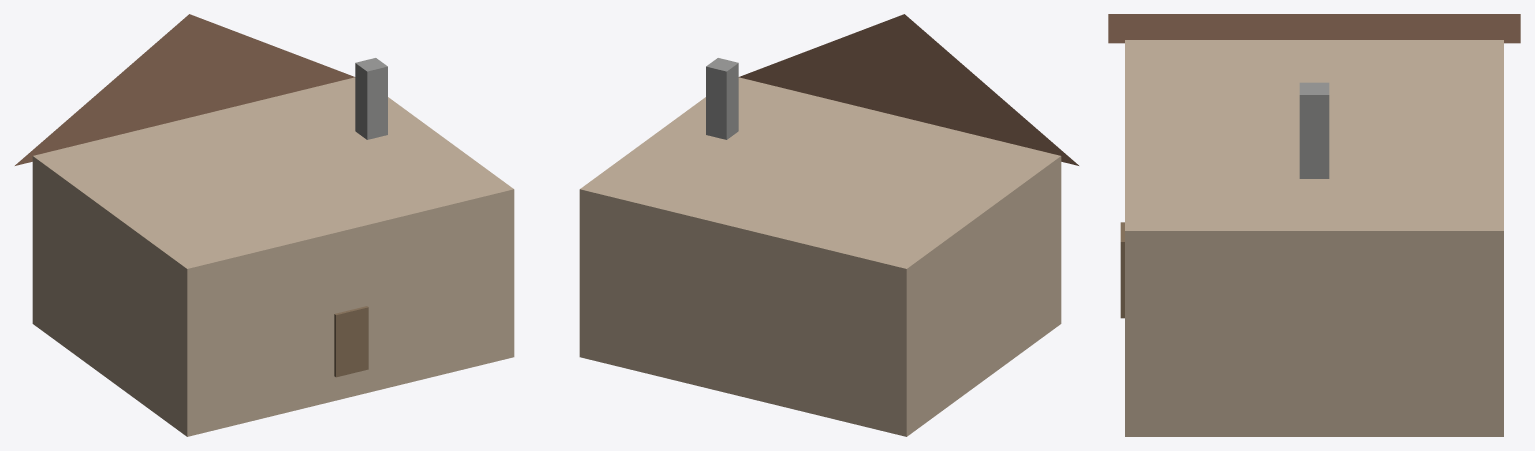
The model's file is house_6.glb.
3 views of the same model, side by side, from view 1: azimuth 30°, elevation 25°; view 2: azimuth 150°, elevation 25°; view 3: azimuth 270°, elevation 25° (orthographic). The views are drawn at different scales.
Size of the model in its own units: 11.8 by 8.52 by 9.8.
